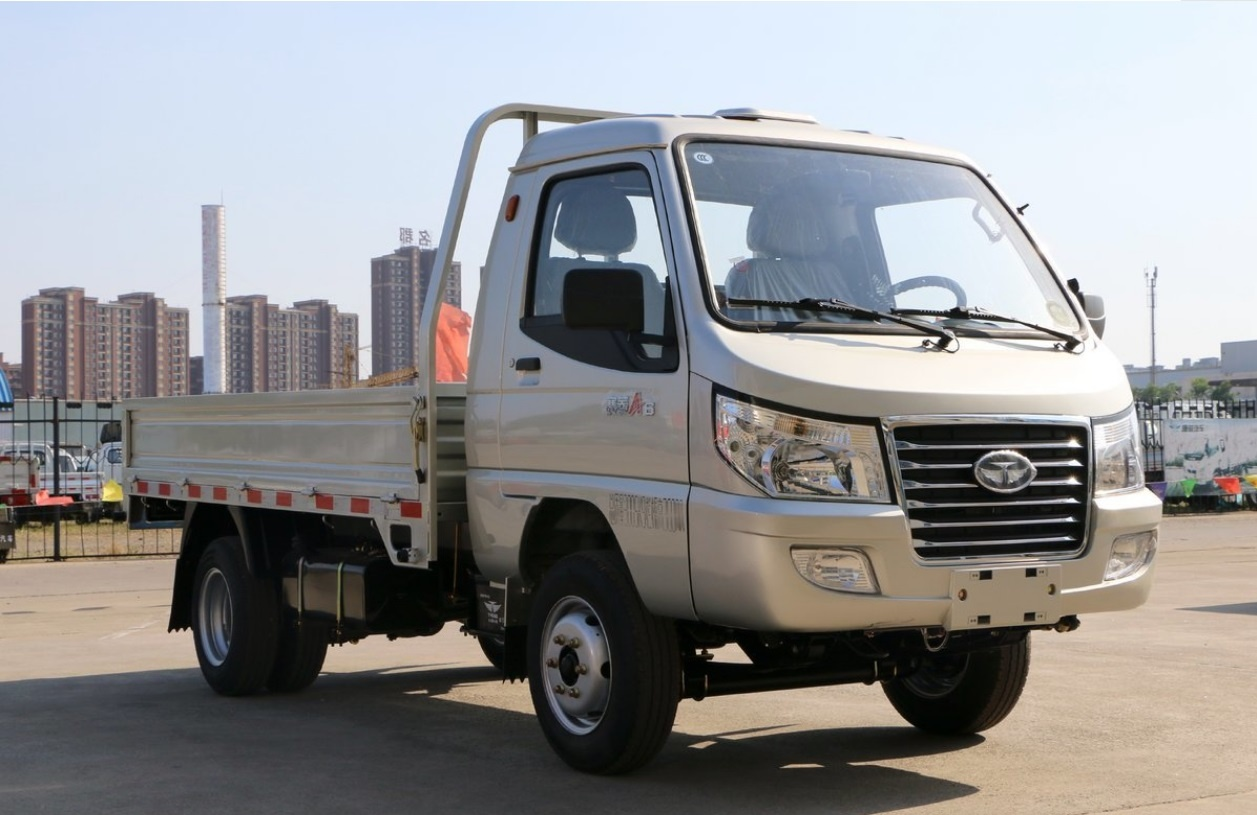truck: (127, 114, 1156, 745)
